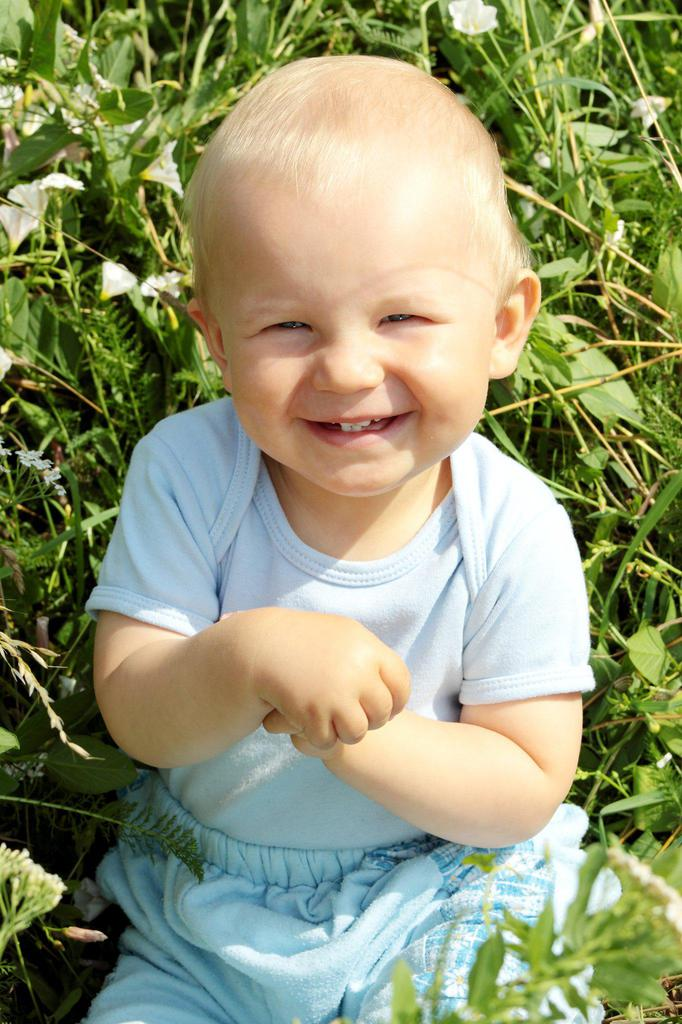child: (59, 31, 642, 1024)
